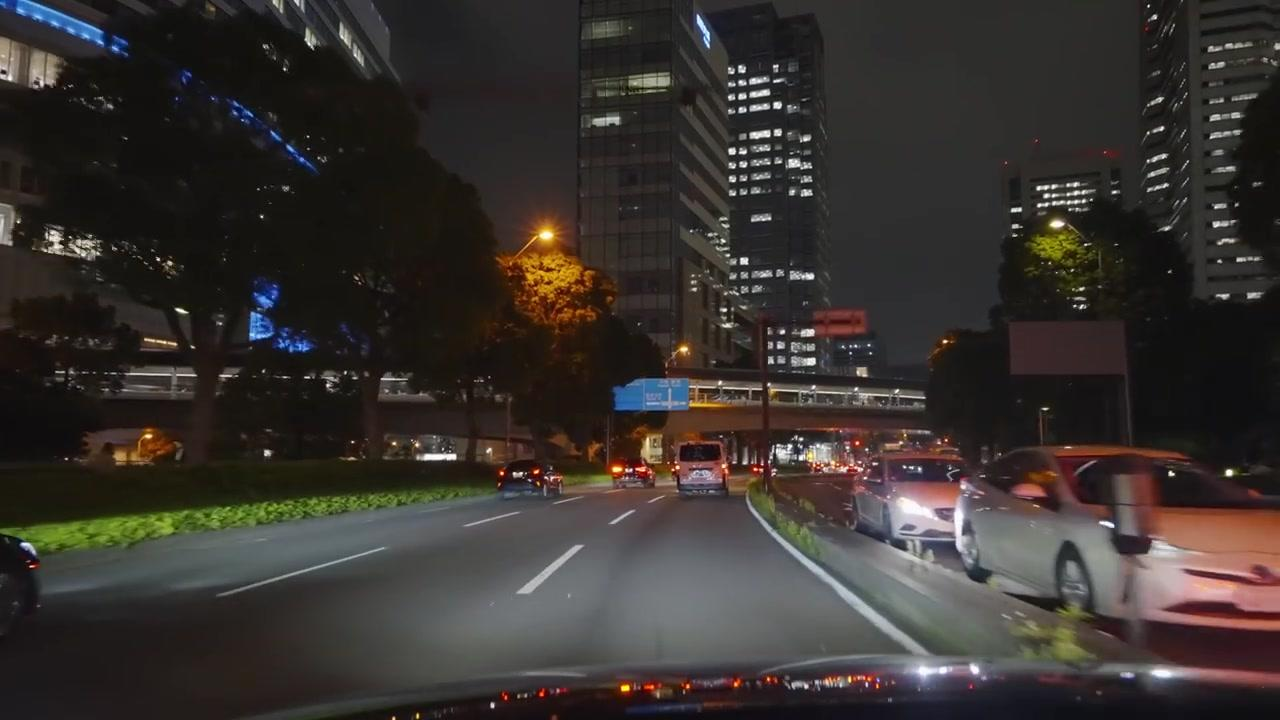bus: (672, 440, 731, 498)
car: (951, 444, 1279, 643), (850, 450, 968, 558), (0, 533, 42, 638), (673, 440, 730, 498), (496, 458, 564, 498), (766, 442, 812, 478), (611, 460, 656, 488)
truck: (672, 440, 731, 498)
